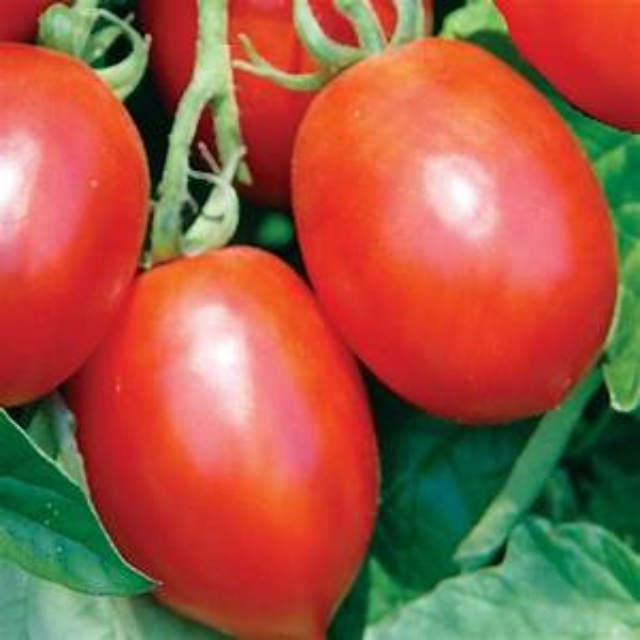tomato: (279, 46, 603, 418), (74, 268, 382, 636), (5, 47, 149, 413)
